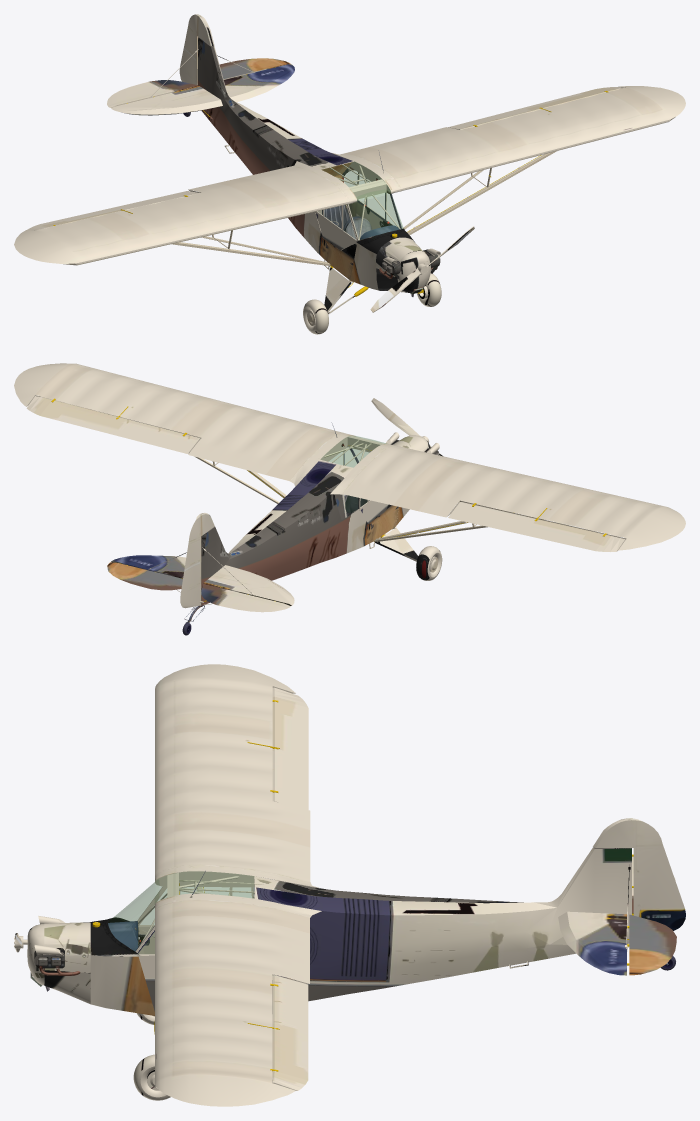
The model's file is cream.gltf.
3 views of the same model, one above another, from view 1: azimuth 30°, elevation 25°; view 2: azimuth 150°, elevation 25°; view 3: azimuth 270°, elevation 25° (orthographic). The views are drawn at different scales.
Visible parts, largest first — view 1: Exterior, XLive_4, XLive_5, XLive_0, XLive_1; view 2: Exterior, XLive_0, XLive_1, XLive_4, XLive_5; view 3: Exterior, XLive_5, XLive_1, XLive_0, XLive_4.
Part boxes in pixels (<box>): Exterior: <box>14,37,685,334</box>; XLive_4: <box>107,58,290,107</box>; XLive_5: <box>179,14,214,84</box>; XLive_0: <box>448,87,624,129</box>; XLive_1: <box>27,191,199,230</box>; Exterior: <box>14,363,685,621</box>; XLive_0: <box>26,395,200,453</box>; XLive_1: <box>448,502,625,551</box>; XLive_4: <box>107,562,290,612</box>; XLive_5: <box>180,513,214,608</box>; Exterior: <box>14,664,633,1106</box>; XLive_5: <box>593,818,685,930</box>; XLive_1: <box>272,687,308,809</box>; XLive_0: <box>272,975,308,1090</box>; XLive_4: <box>629,854,676,975</box>.
Bounding box in the file's own units: 10.65 × 2.73 × 6.86.
Materials: 73 (61 with a texture image).
